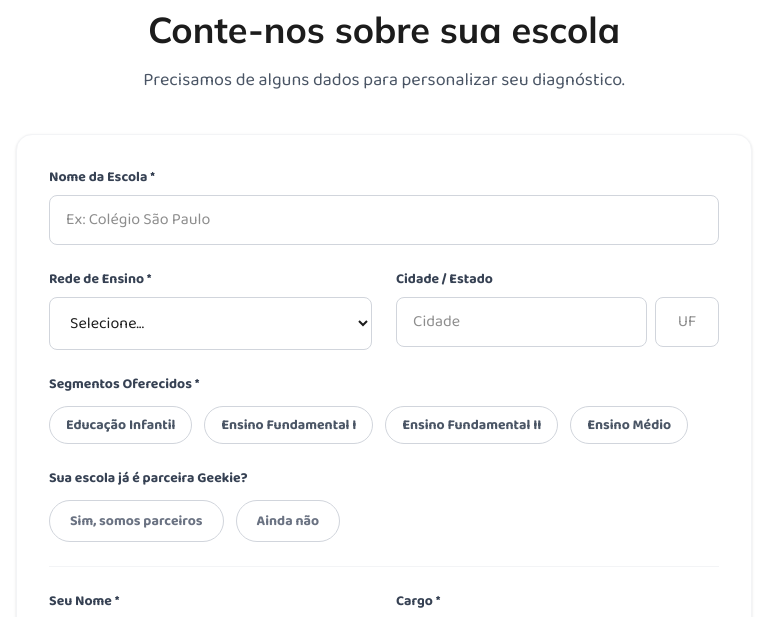
Cadastro form › erro some quando o campo é preenchido
Click the field with placeholder "Ex: Colégio São Paulo". click: x=384, y=220
box: [49,195,719,245]
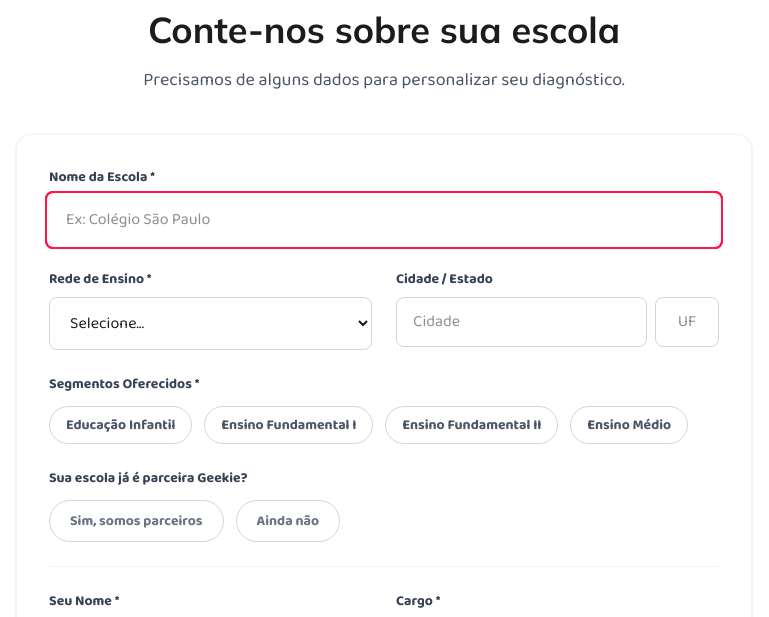
Press Tab
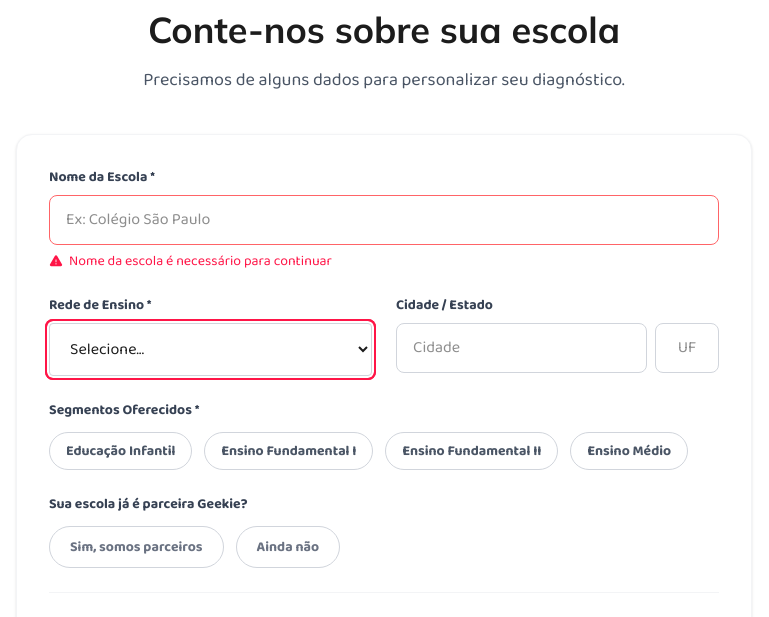
Check: the message "Nome da escola é necessário para continuar" is shown, box [49,250,332,272]
Type "Escola Teste" into the field with placeholder "Ex: Colégio São Paulo". click: x=384, y=220
box: [49,195,719,245]
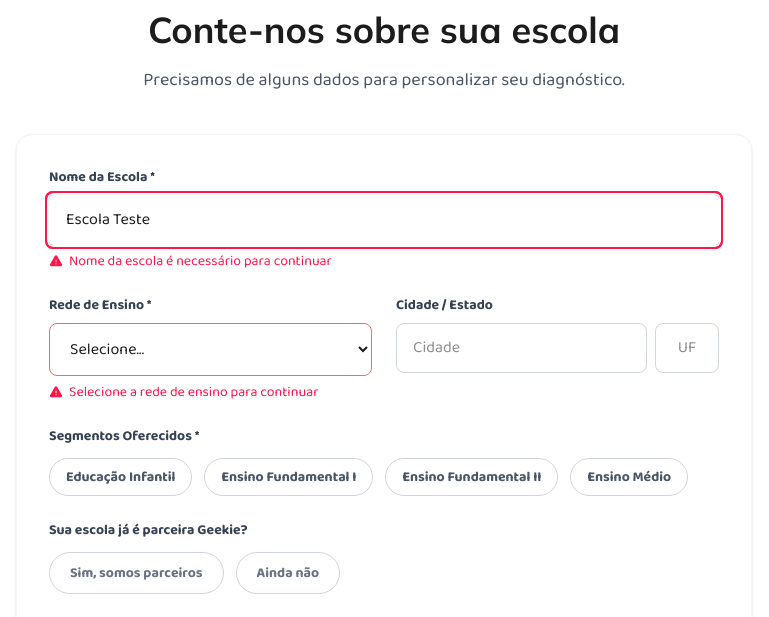
Press Tab
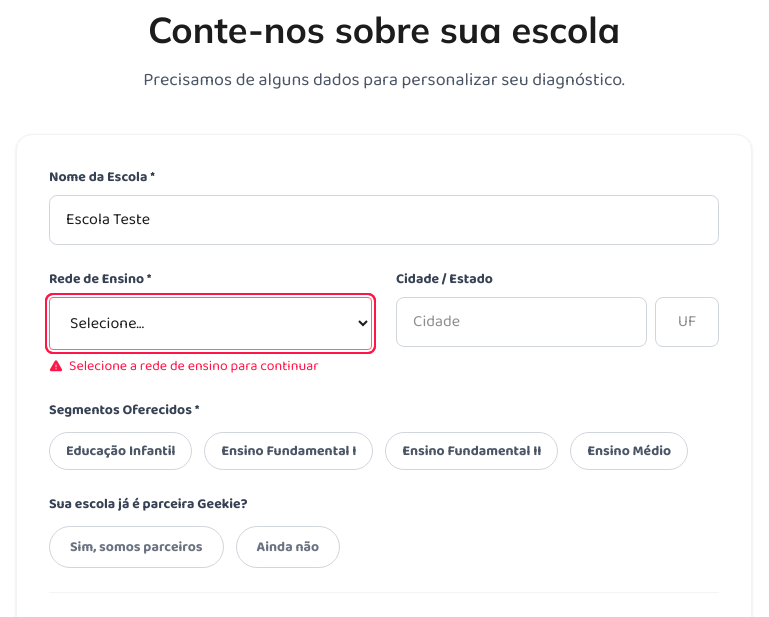
Check: the message "Nome da escola é necessário para continuar" is gone
